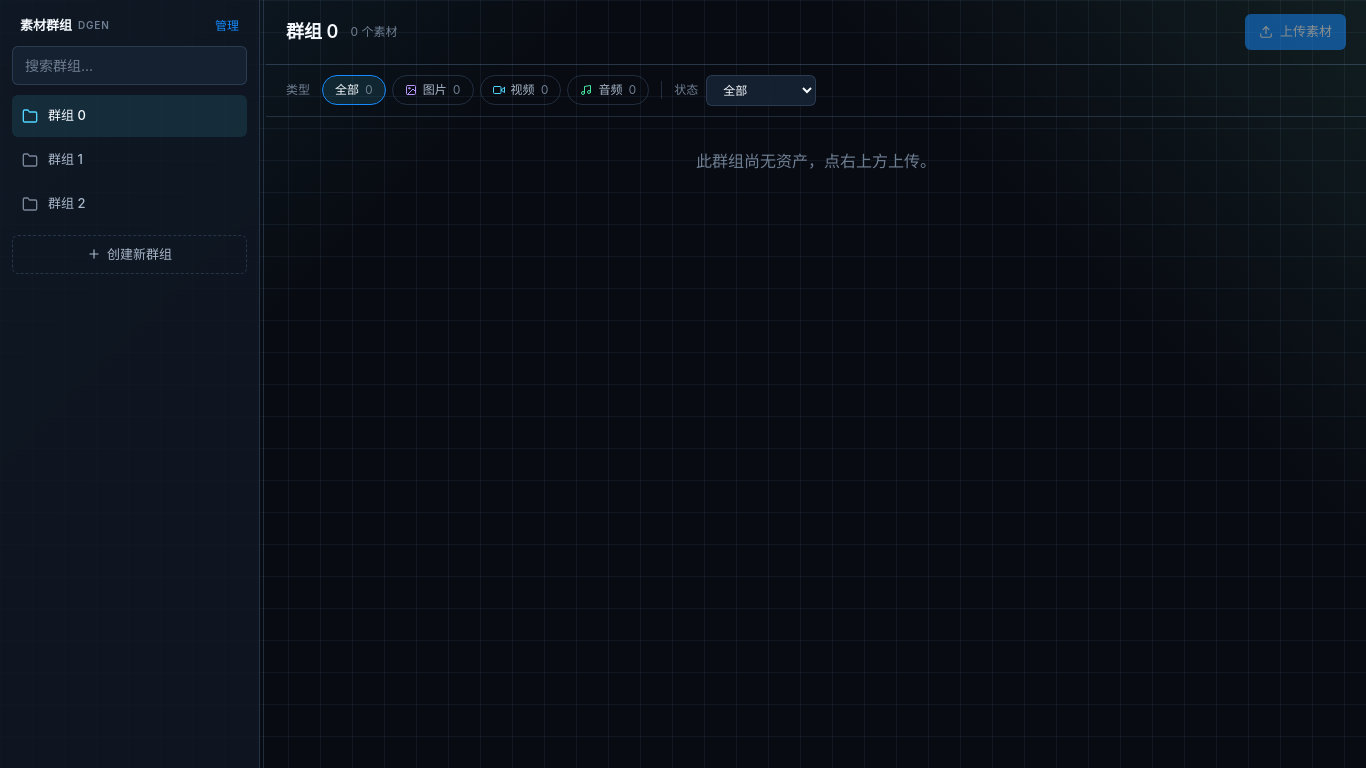
Test: batch group delete wiring › typed confirmation gates the deletion
Expected: the element with test id "group-row-g-0" is shown, [12, 94, 247, 136]
Click the button "管理" at (227, 26), box [215, 17, 239, 35]
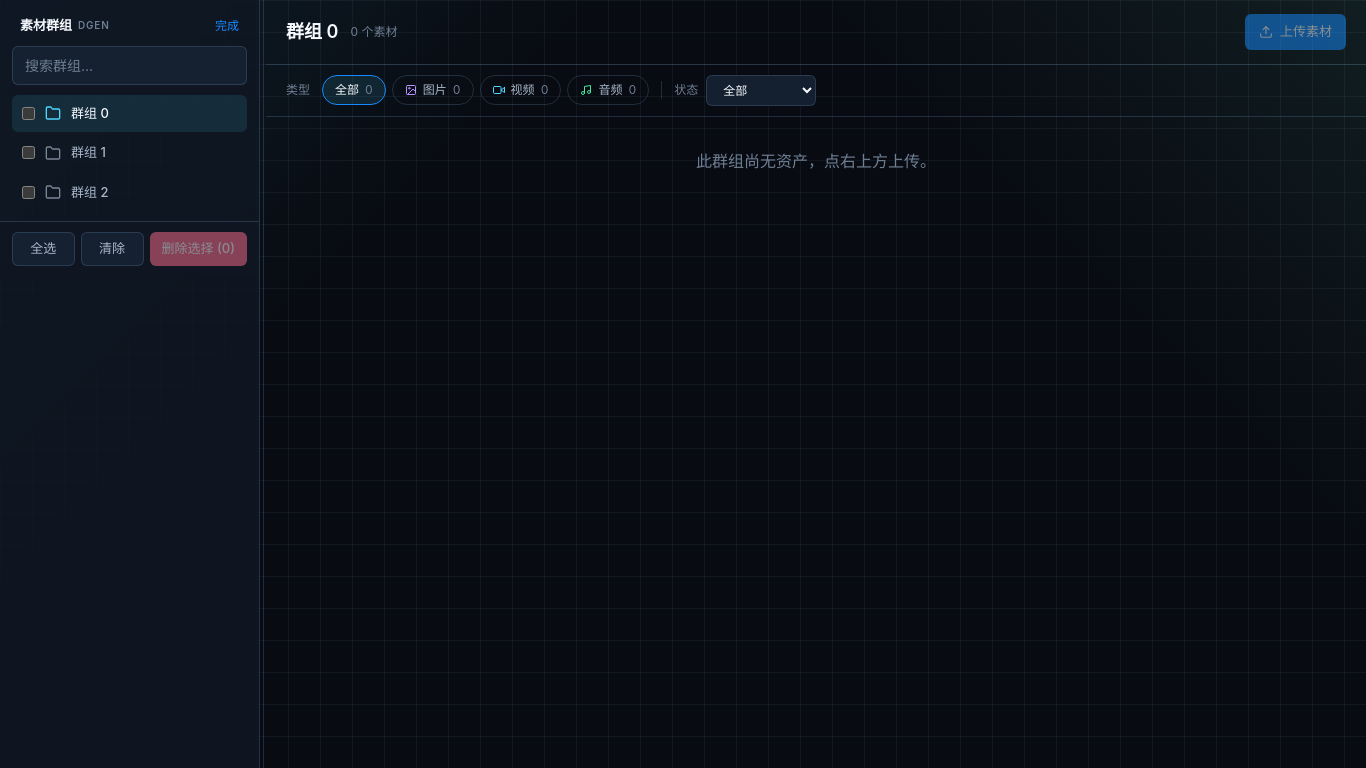
Click the element with test id "group-row-g-0" at (130, 113), box [12, 94, 247, 132]
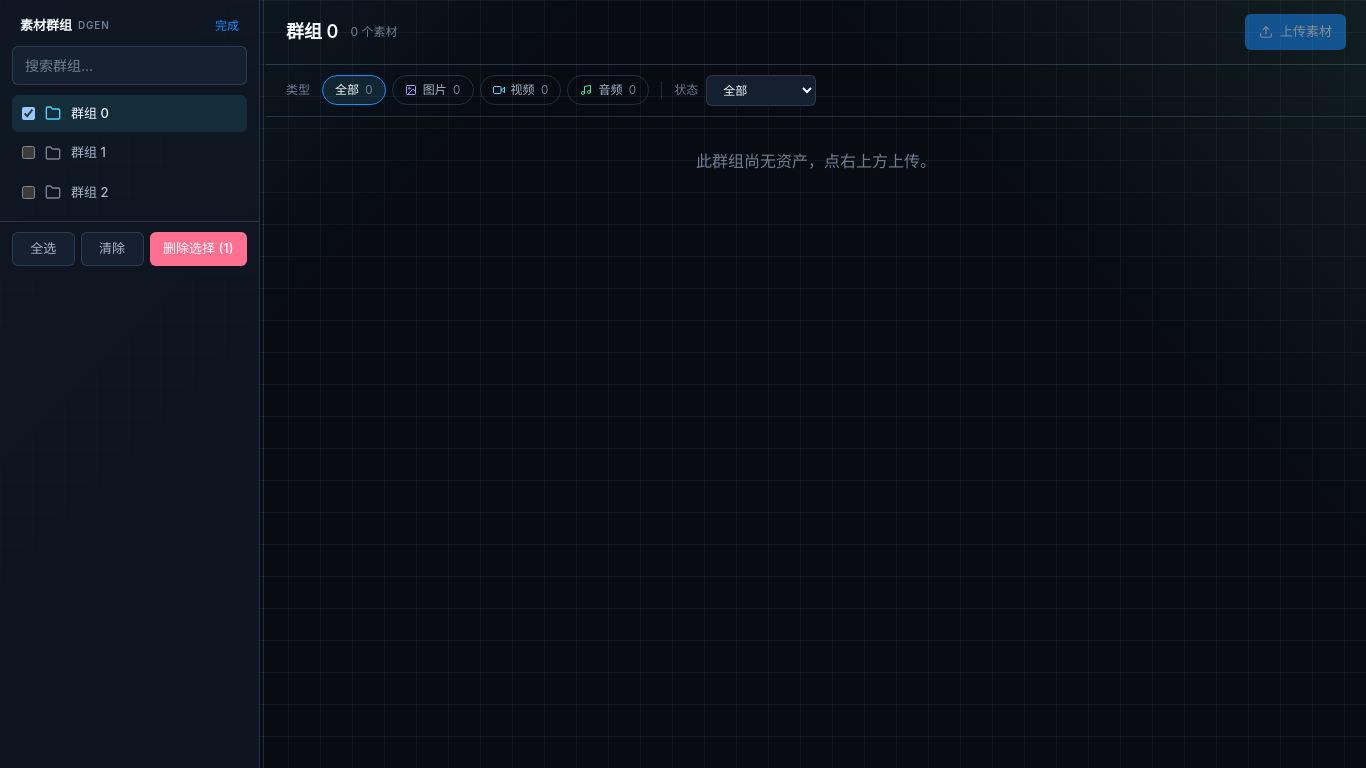
Click the element with test id "group-row-g-1" at (64, 152), box [22, 144, 106, 161]
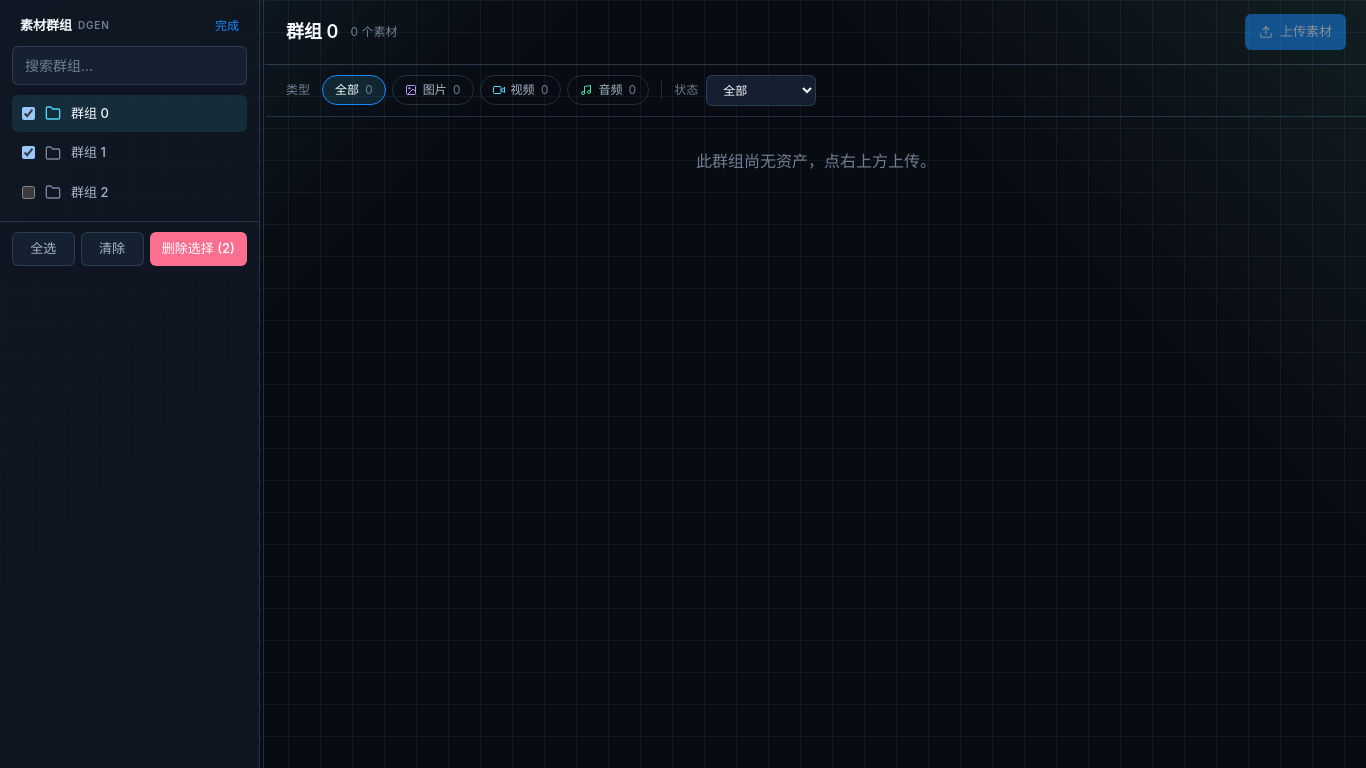
Click the button "删除选择 (2)" at (198, 249), box [150, 232, 247, 266]
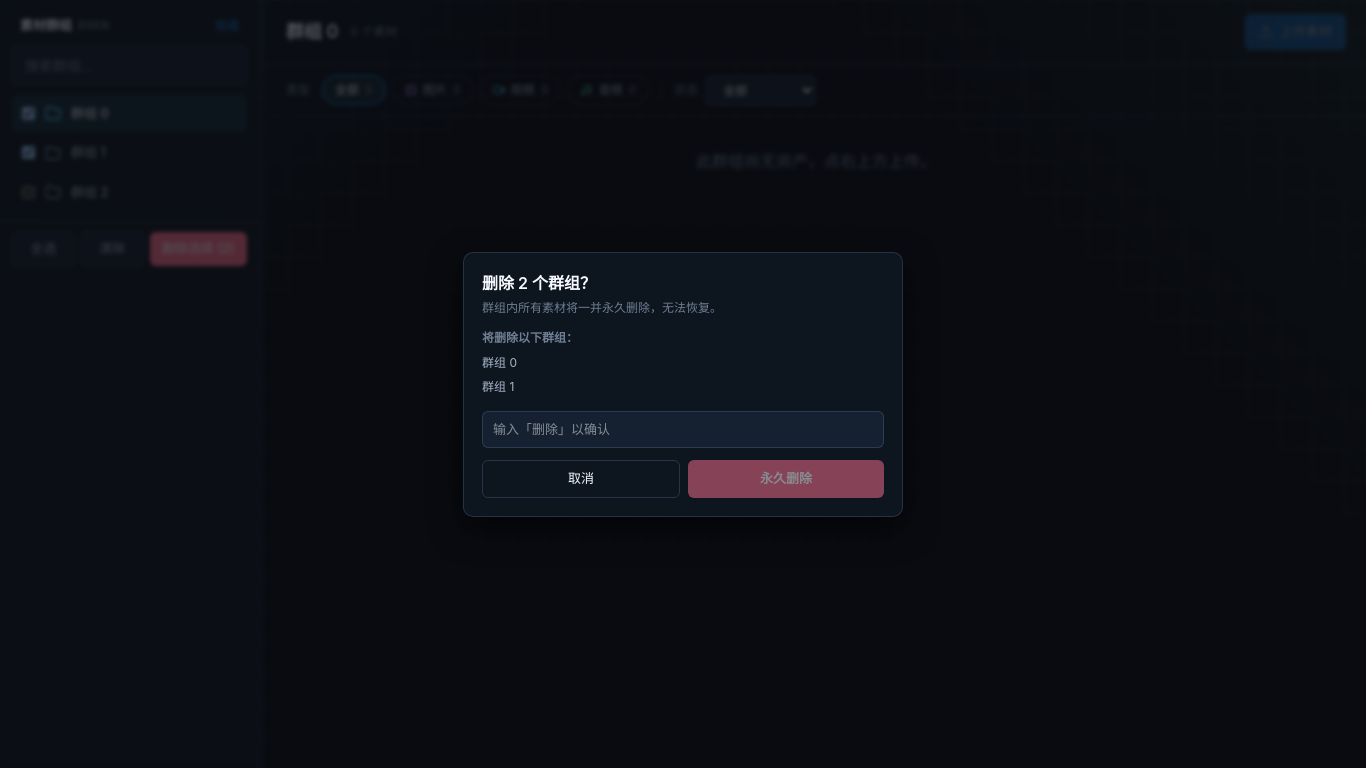
Result: the button "永久删除" is disabled at [688, 460, 884, 498]
